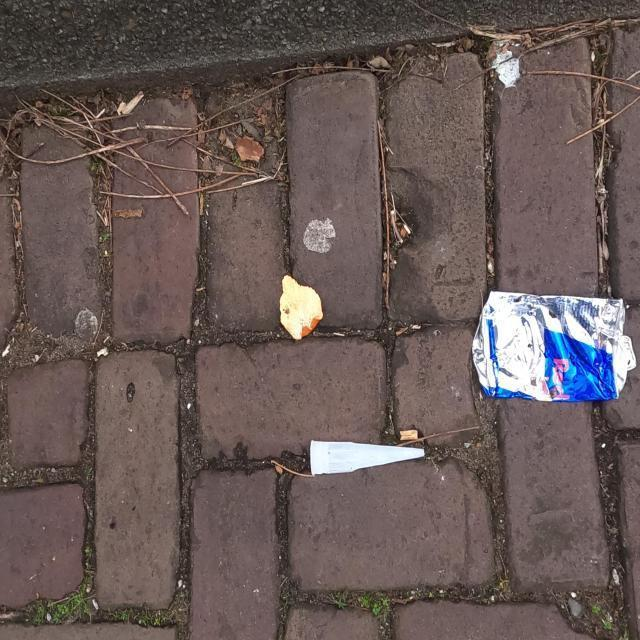Can-Metal: (471, 288, 638, 406)
